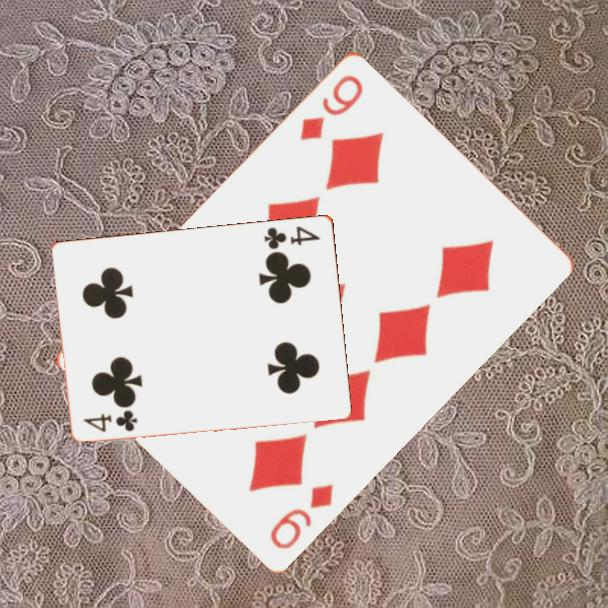c04: (261, 222, 323, 252), (80, 407, 140, 435)
d09: (266, 479, 337, 552), (296, 70, 366, 143)
